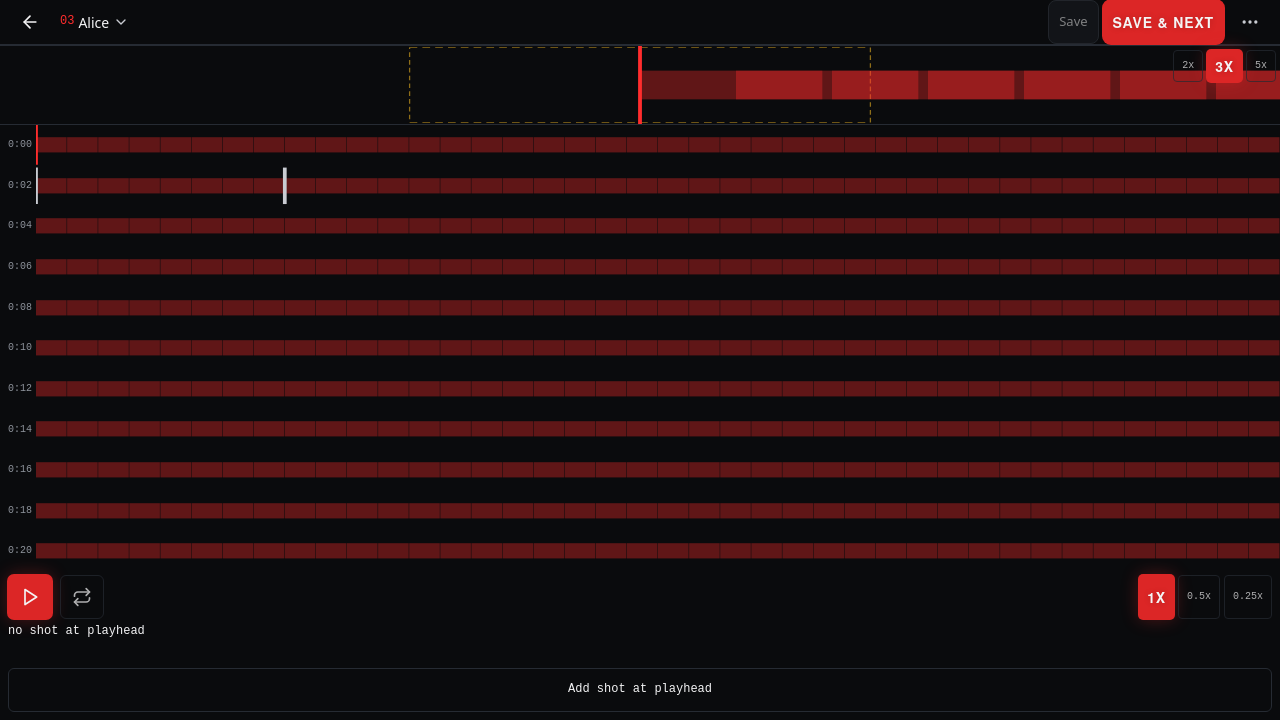
Test: MobileAudit navigation › the title opens a picker for shooter and stage
Click the button with aria-label "choose shooter and stage": [95, 22] box [60,0,129,44]
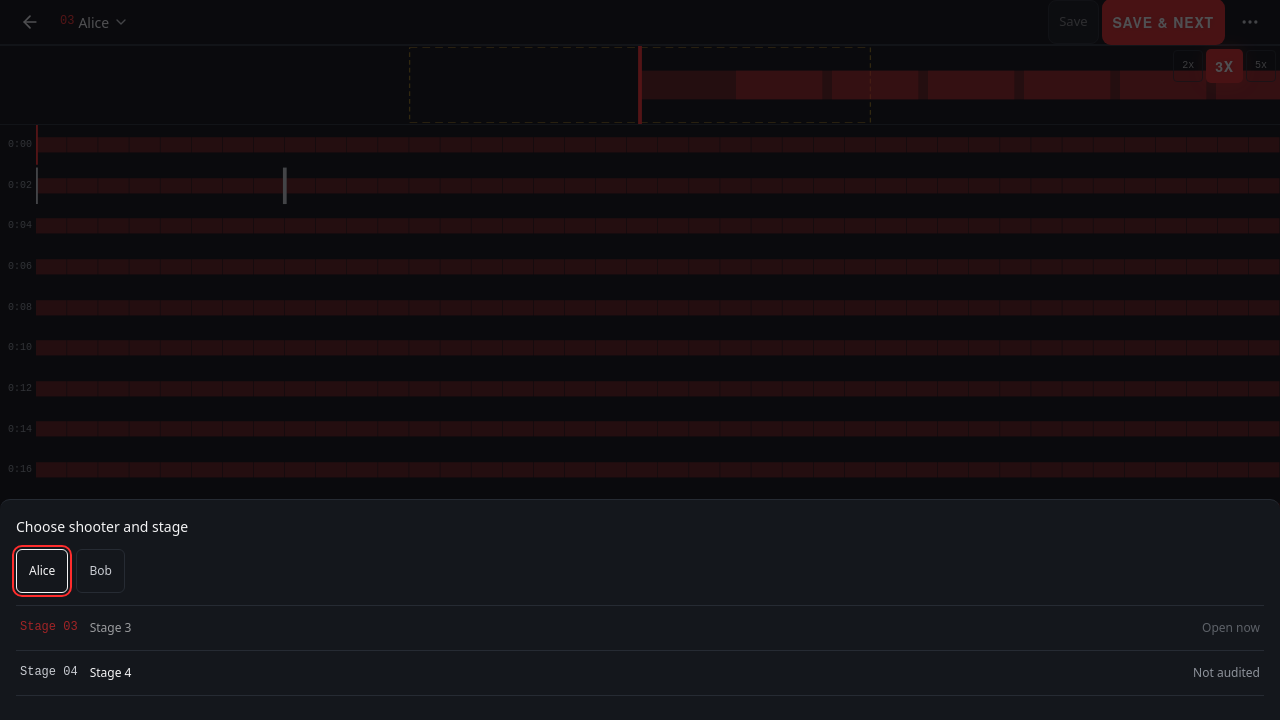
Click the button "Bob": [101, 571] box [76,549,125,593]
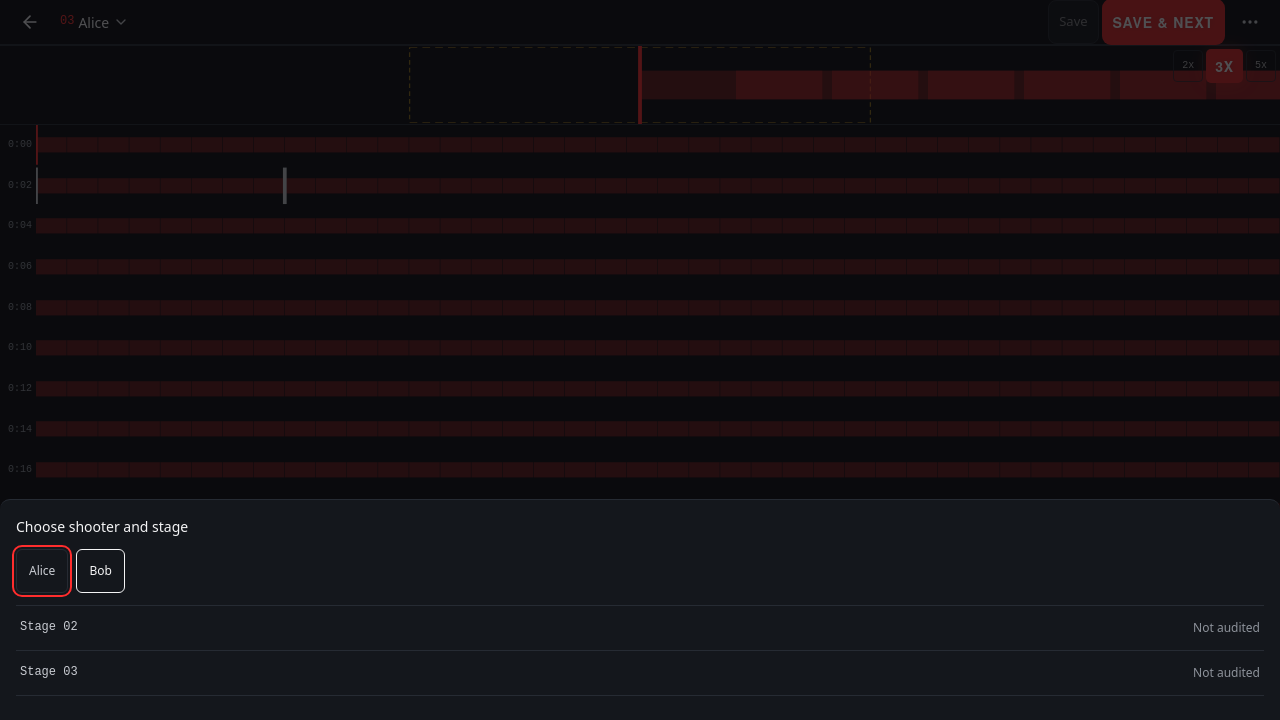
Click the button "Stage 03 Not audited": [42, 672] box [16,651,1264,695]
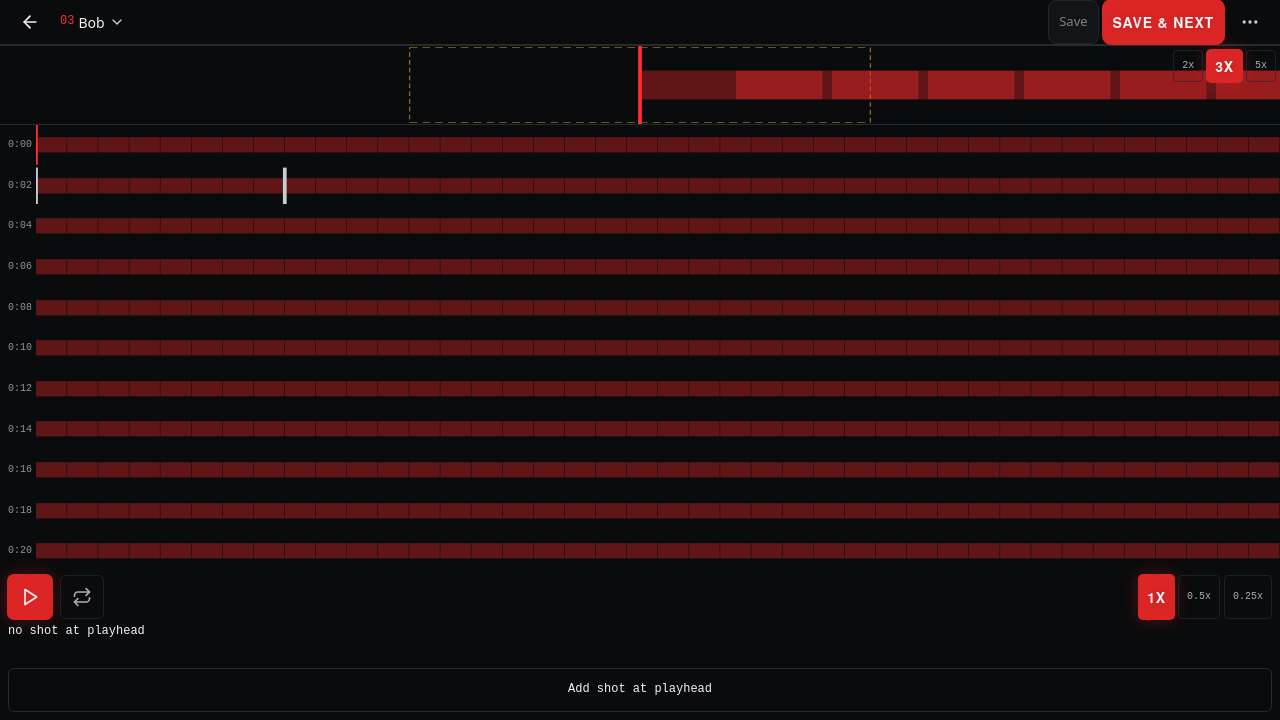
expect the text with test id "where" reads "/match/m1/audit/bob/3": met, box [0,1,178,23]
